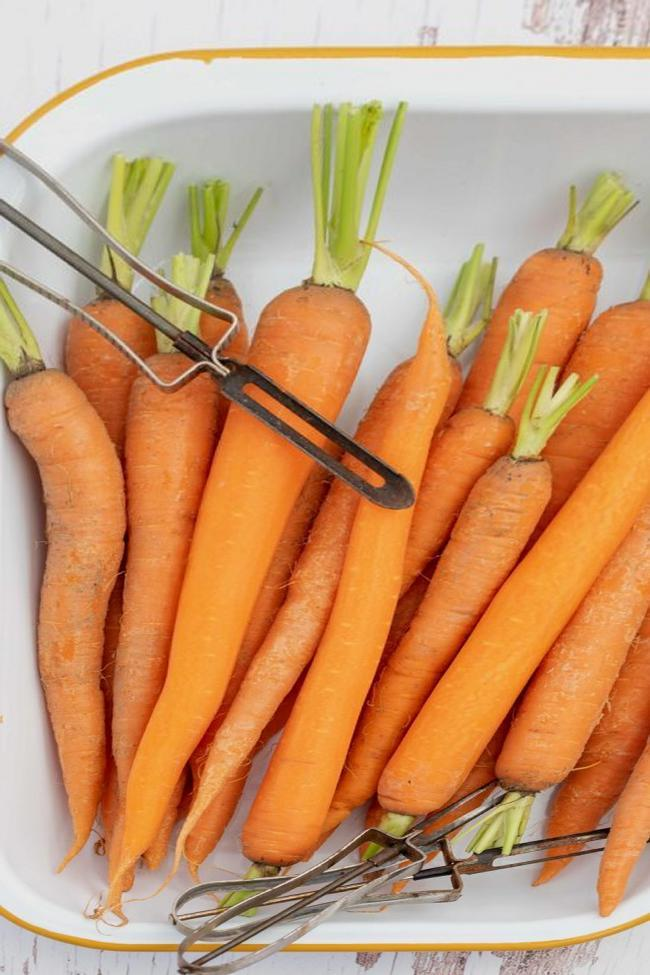carrot: (6, 246, 650, 861)
